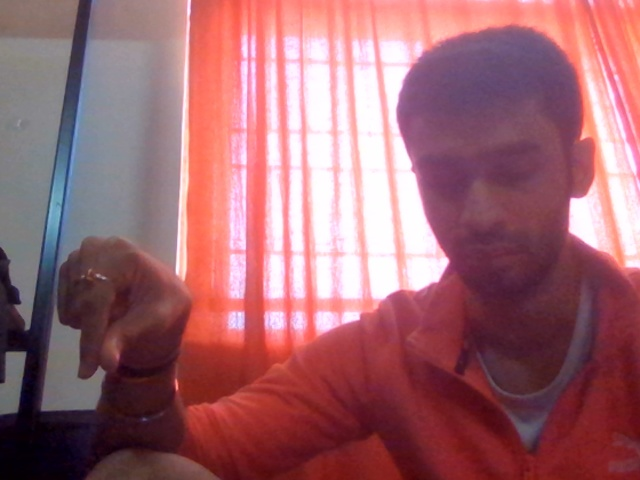Q: (56, 214, 211, 420)
